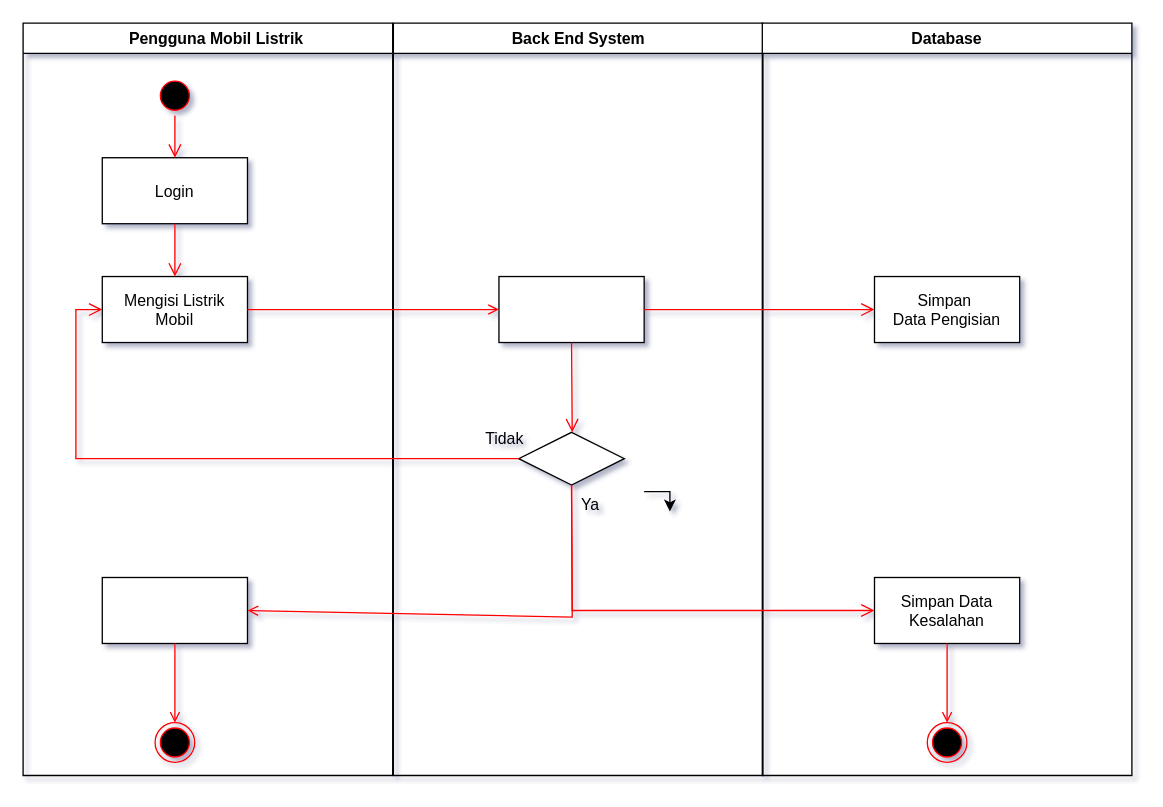
This 1163x807 diagram has some shape labels left out. Here are the shapes that lost their labels. From the top down, the centre of each, then its label:
At point 571,309: "Proses Transaksi Pengisian".
At point 570,458: "Eror".
At point 174,610: "Nontifikasi Kesalahan".
